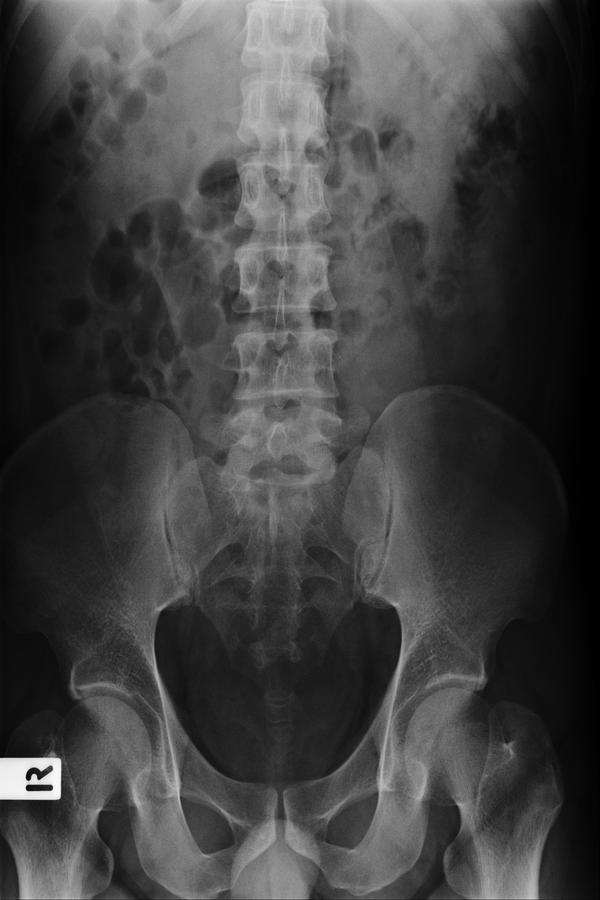not lumbar scoliosis: (216, 148, 347, 505)
